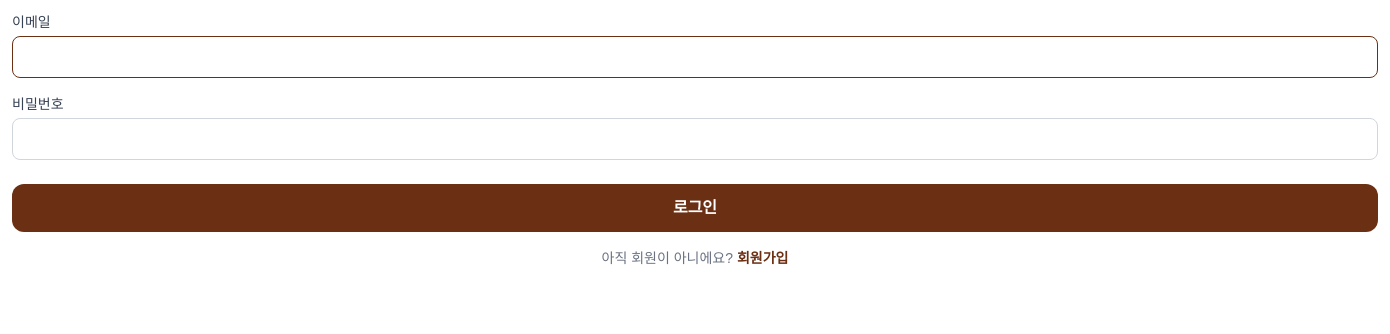
Test case: 로그인 폼 › 401 는 서버 문구를 그대로 보여 줘요
Type "kim@test.com" into the field labelled "이메일" at (695, 57), box [12, 36, 1378, 78]
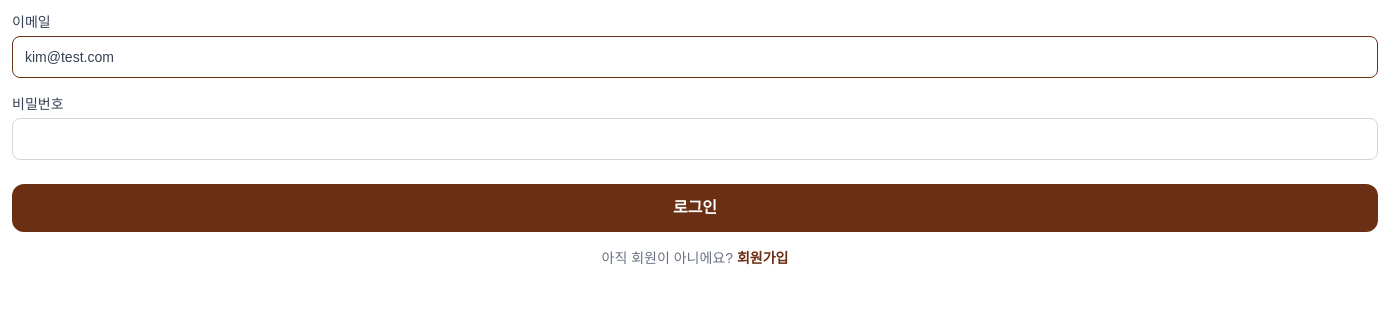
Type "wrong" into the password field labelled "비밀번호" at (695, 139), box [12, 118, 1378, 160]
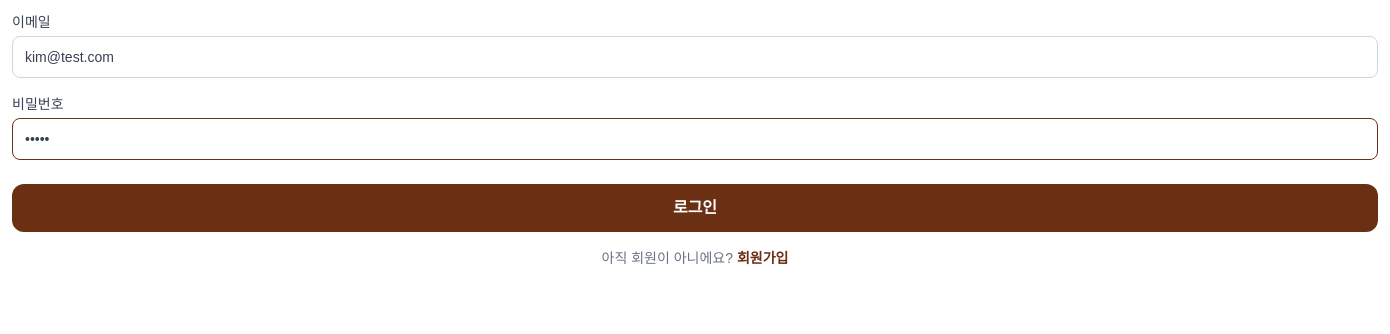
Click the button "로그인" at (695, 208), box [12, 184, 1378, 232]
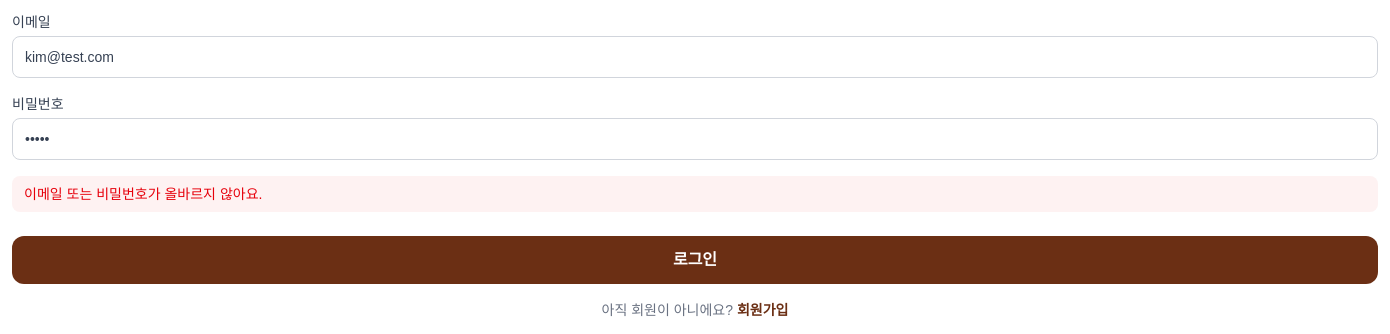
Expected: the message reads "이메일 또는 비밀번호가 올바르지 않아요.", [24, 186, 262, 202]
